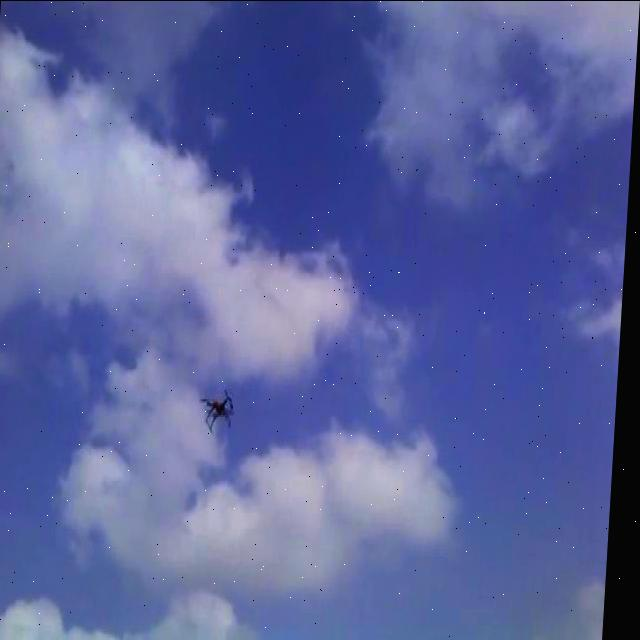drone: (201, 382, 241, 433)
